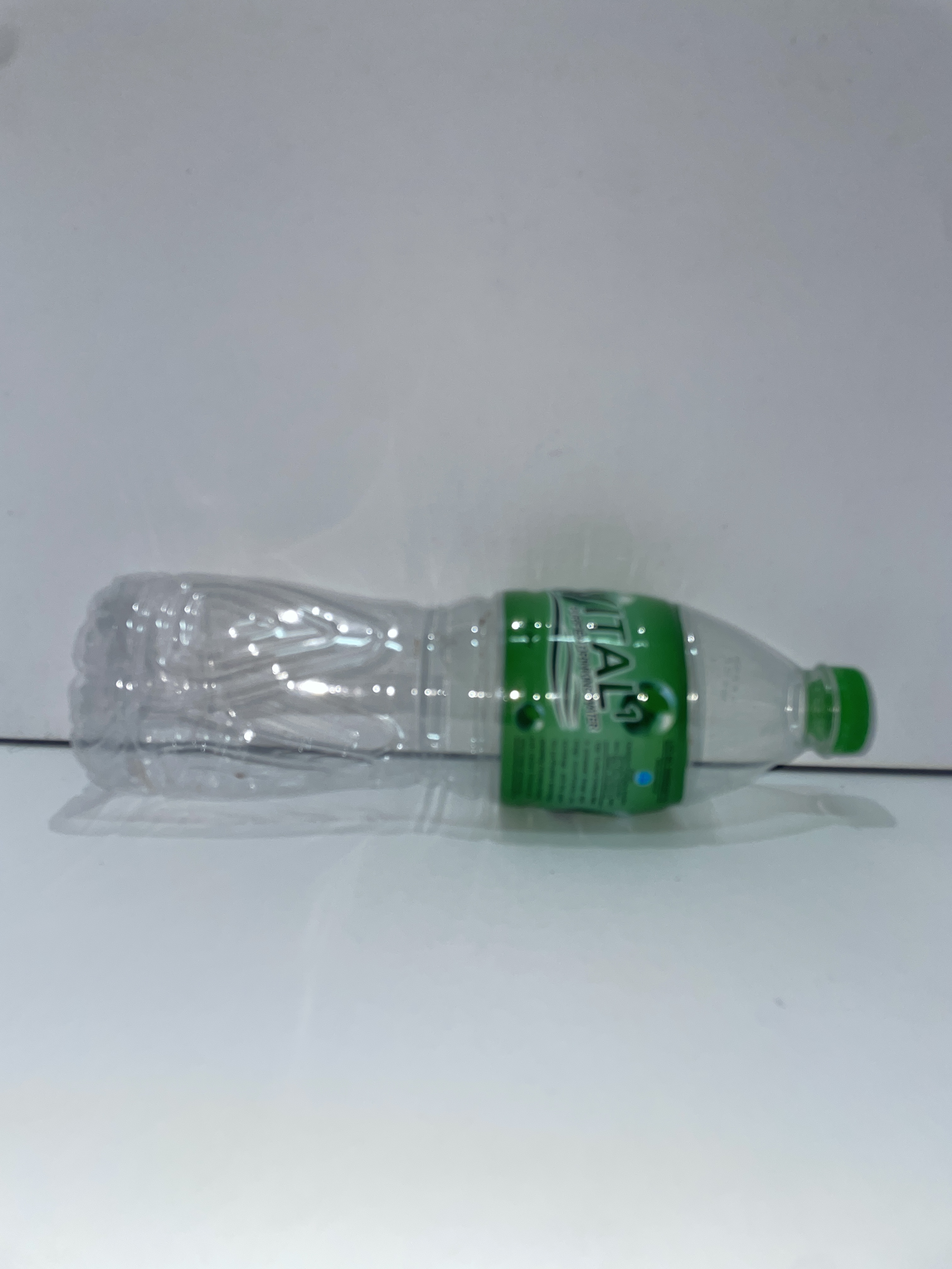Vital 1000ml: (70, 574, 873, 816)
